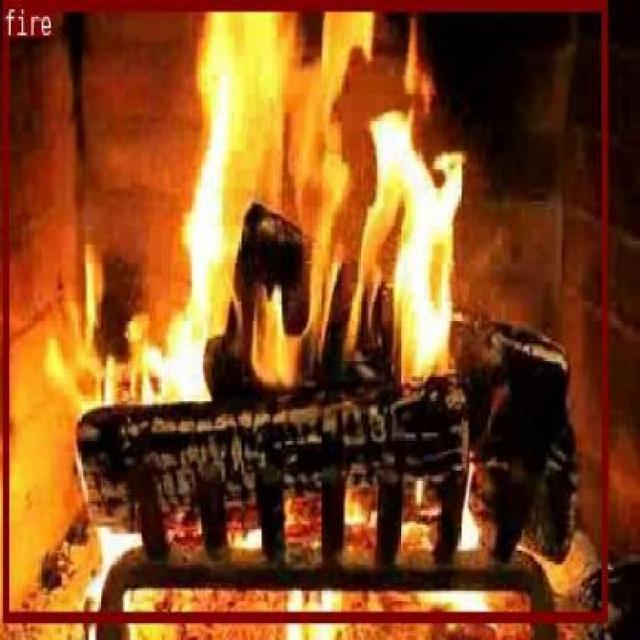Fire: (1, 0, 606, 622)
